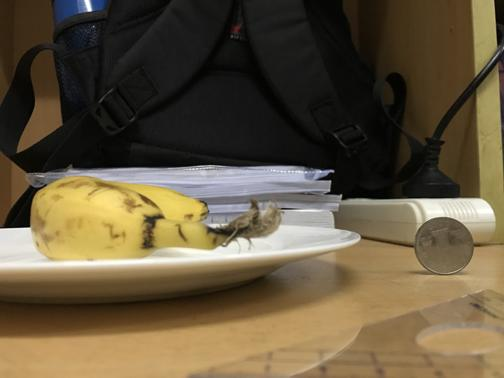banana: (29, 177, 209, 258)
coin: (413, 215, 475, 274)
